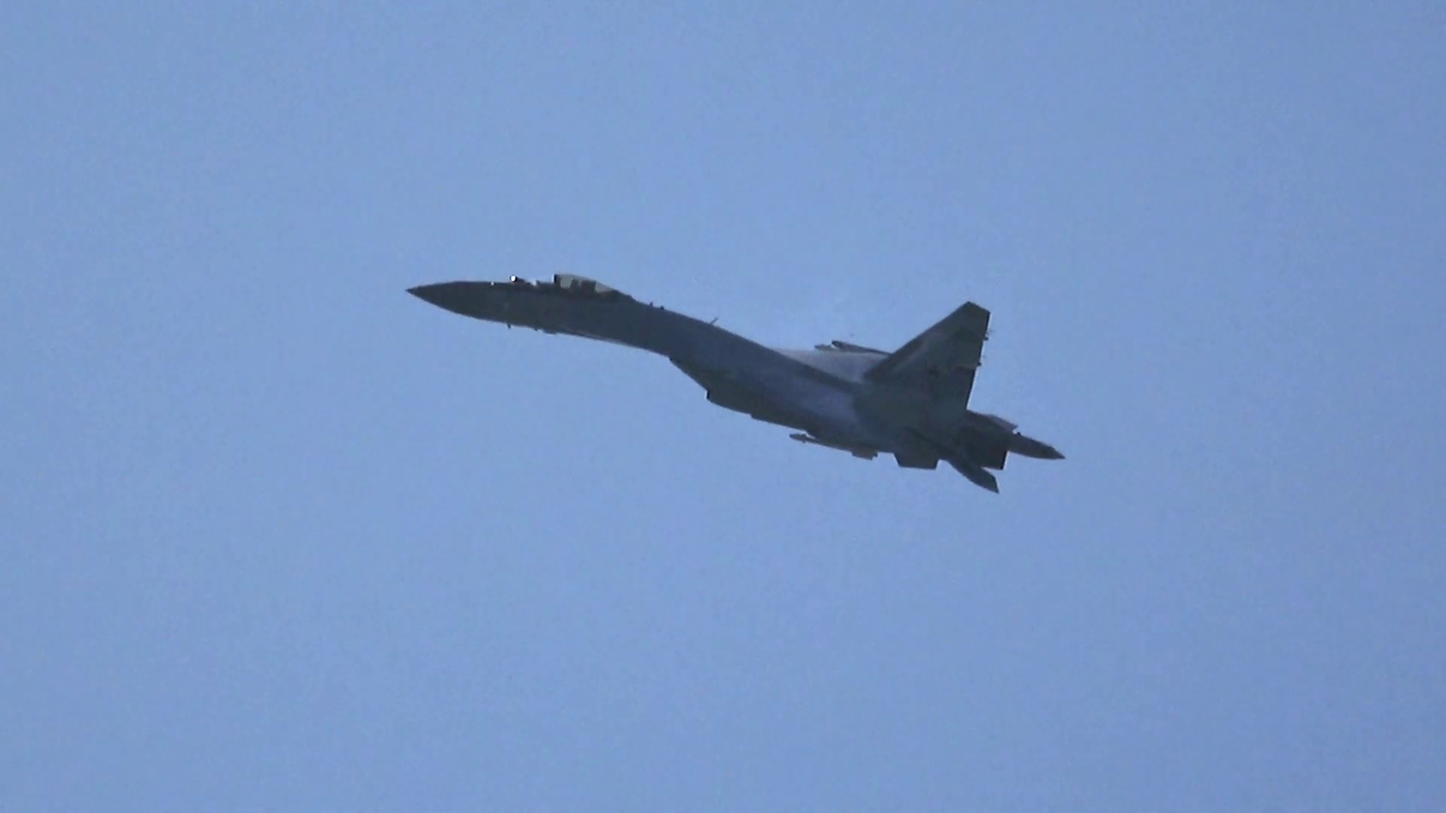Su35: (405, 272, 1066, 494)
